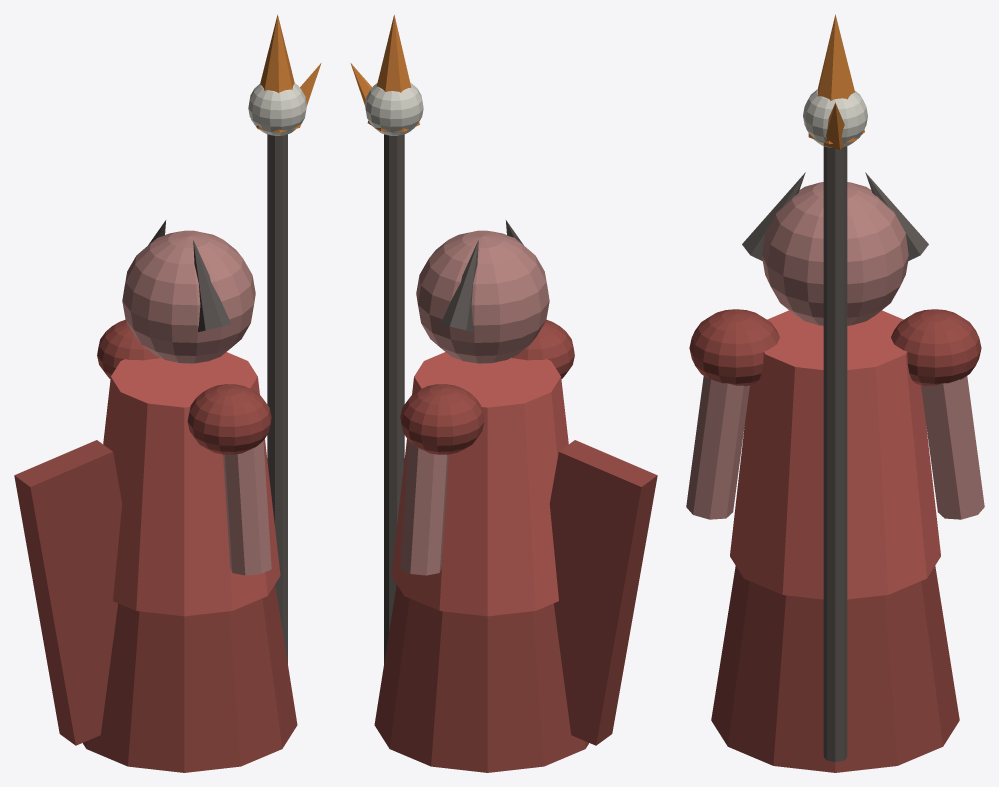
Rendered from hero_horda_5.glb.
3 renders of one model, left to right at view 1: azimuth 30°, elevation 25°; view 2: azimuth 150°, elevation 25°; view 3: azimuth 270°, elevation 25°, orthographic. The views are drawn at different scales.
Visible parts, largest first — view 1: figurka; view 2: figurka; view 3: figurka.
Part boxes in pixels (x1,y1,x2,y2): figurka: (14,14,321,772); figurka: (350,15,657,772); figurka: (686,14,984,772).
Size of the model in its own units: 0.6418 by 1.41 by 0.5044.
